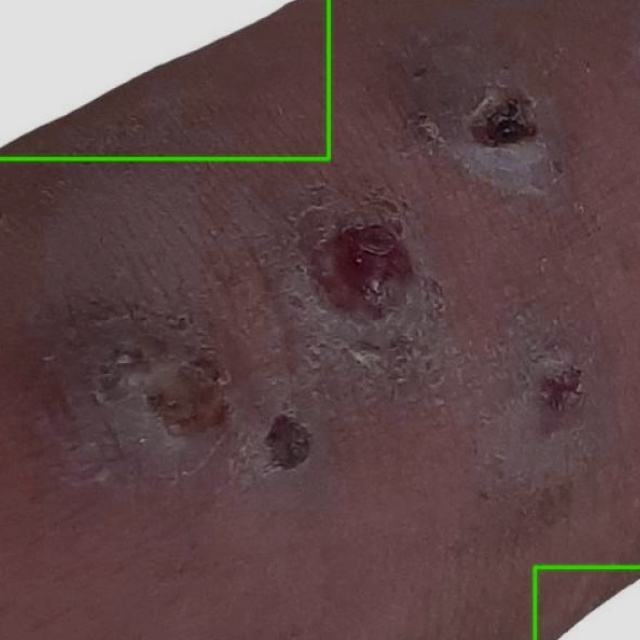Scabies: (0, 0, 328, 158), (533, 567, 639, 639)
